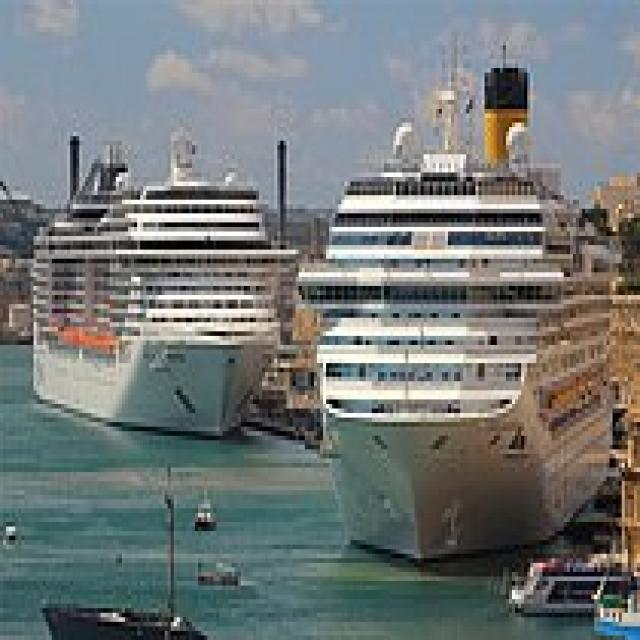Ship: (284, 101, 626, 564), (32, 133, 300, 451)
